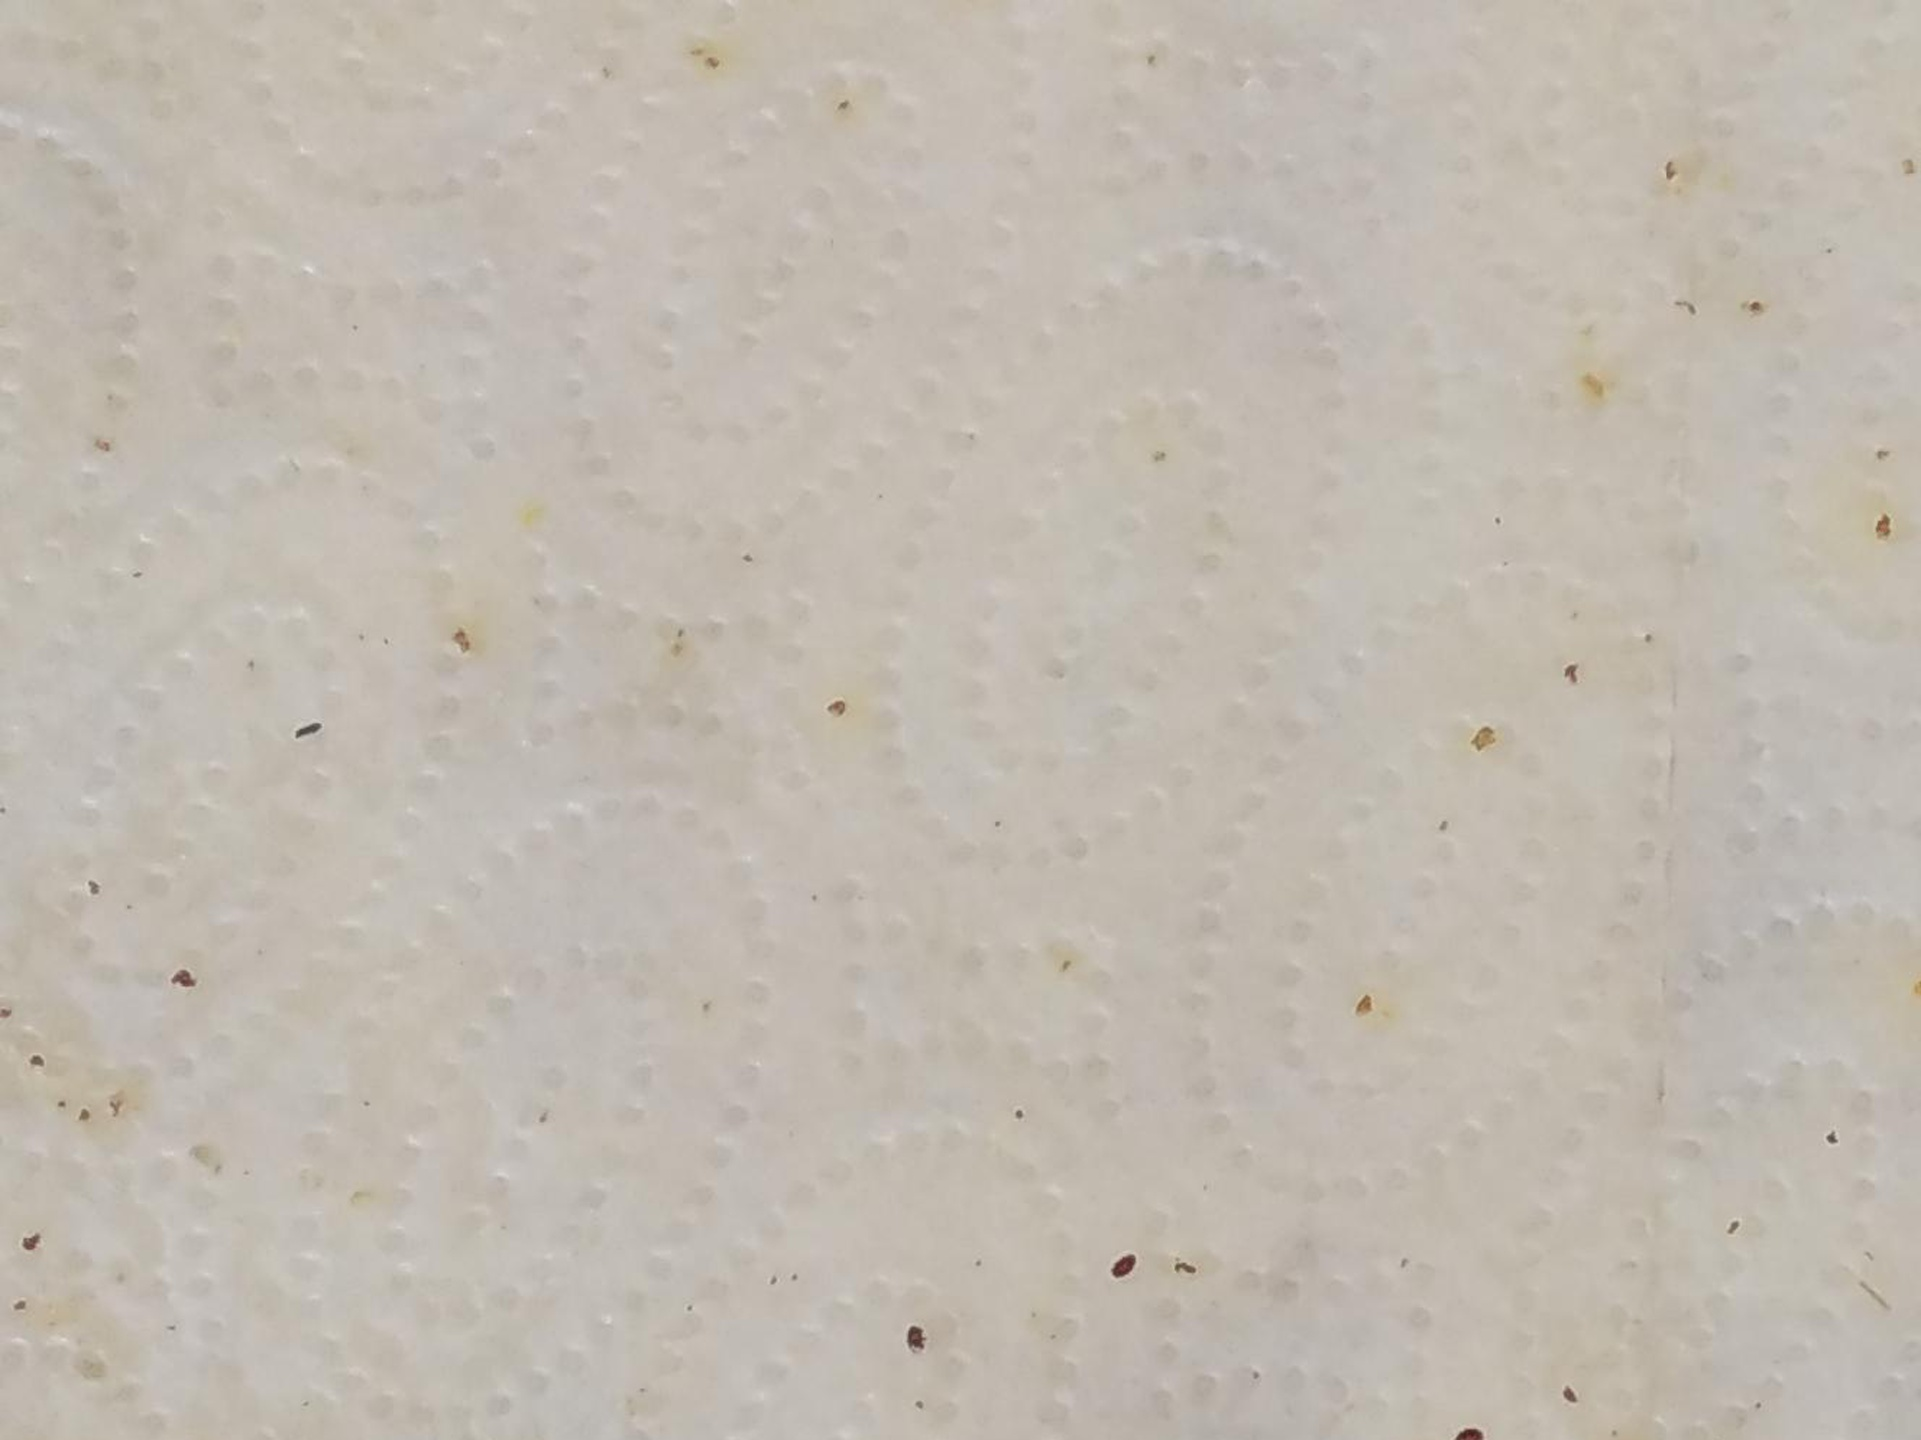Varroa: (1106, 1248, 1140, 1286), (902, 1330, 935, 1367)
